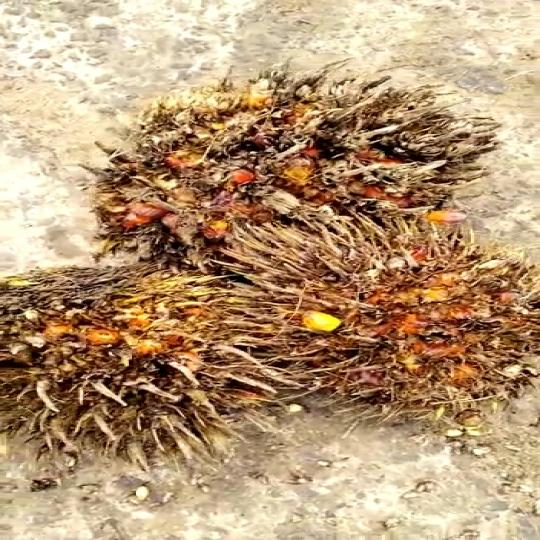terlalu masak: (68, 77, 488, 274), (204, 221, 540, 416), (0, 250, 255, 466)
